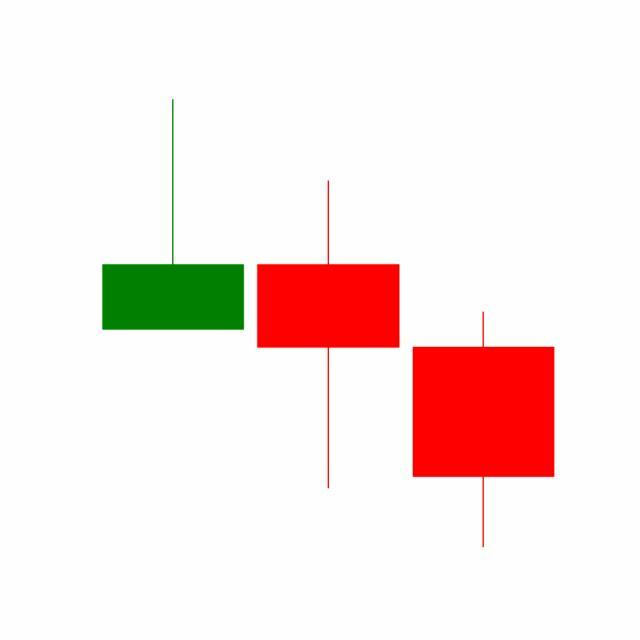Dragonfly Doji: (250, 177, 407, 493)
